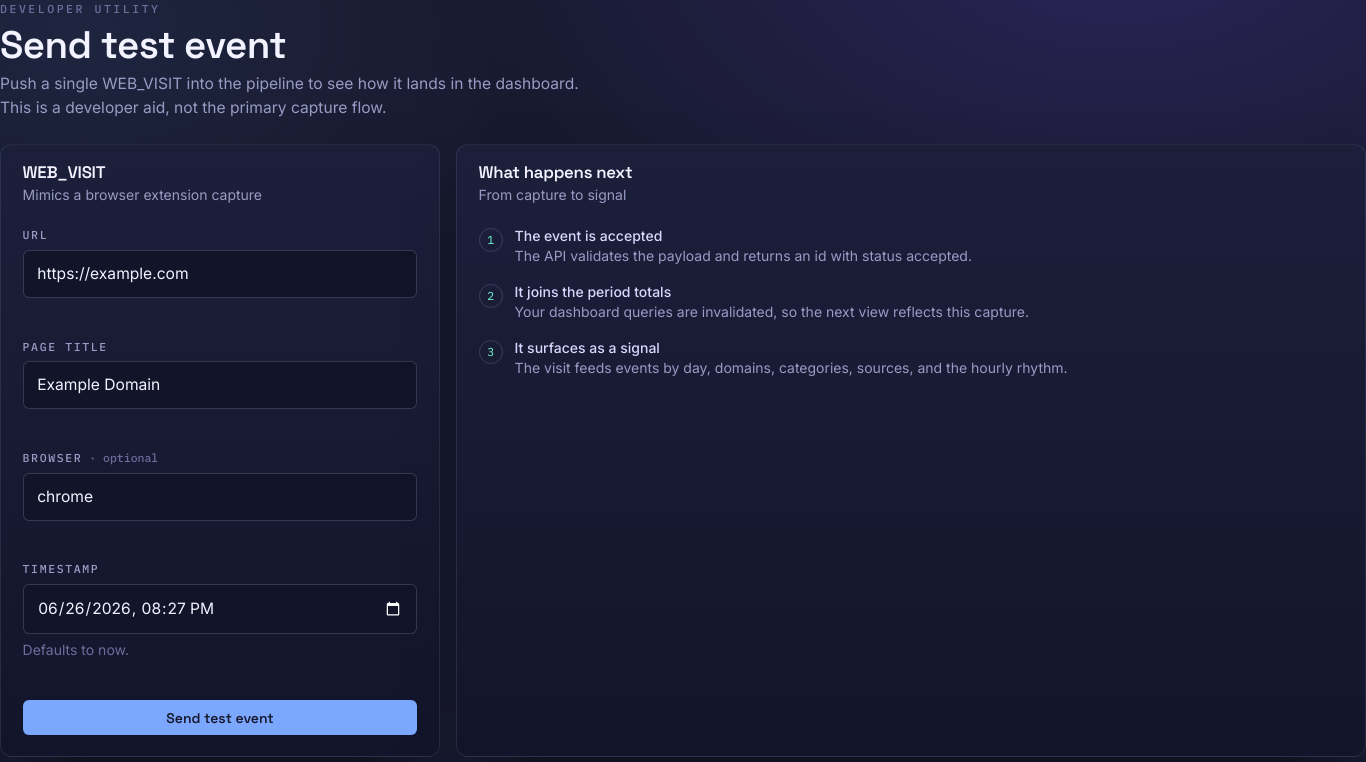
Test: SendTestEventPage › surfaces a rejection from the API
The width and height of the screenshot is (1366, 762).
Click the button "Send test event" at (220, 718), box [23,700,417,735]
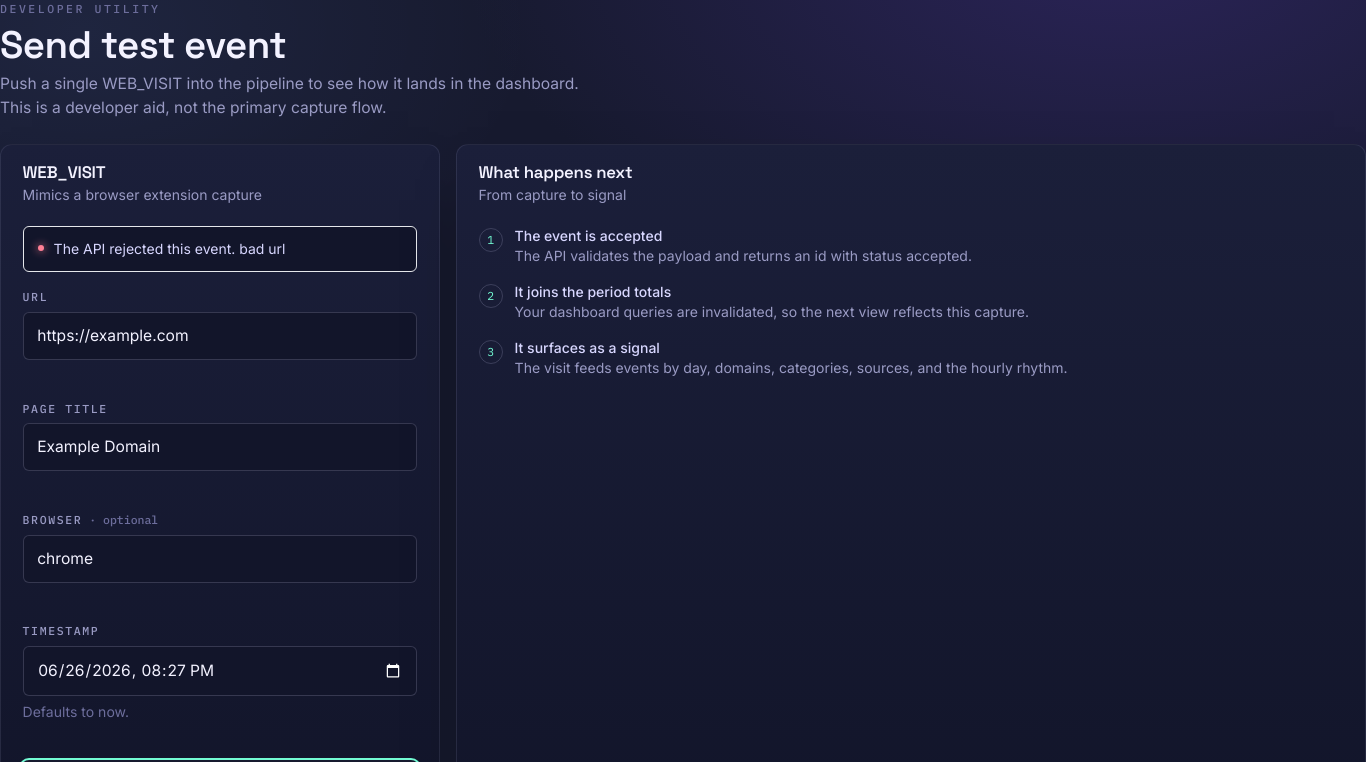
Check: the text "The API rejected this event. bad url" is shown, box [54,239,286,259]
